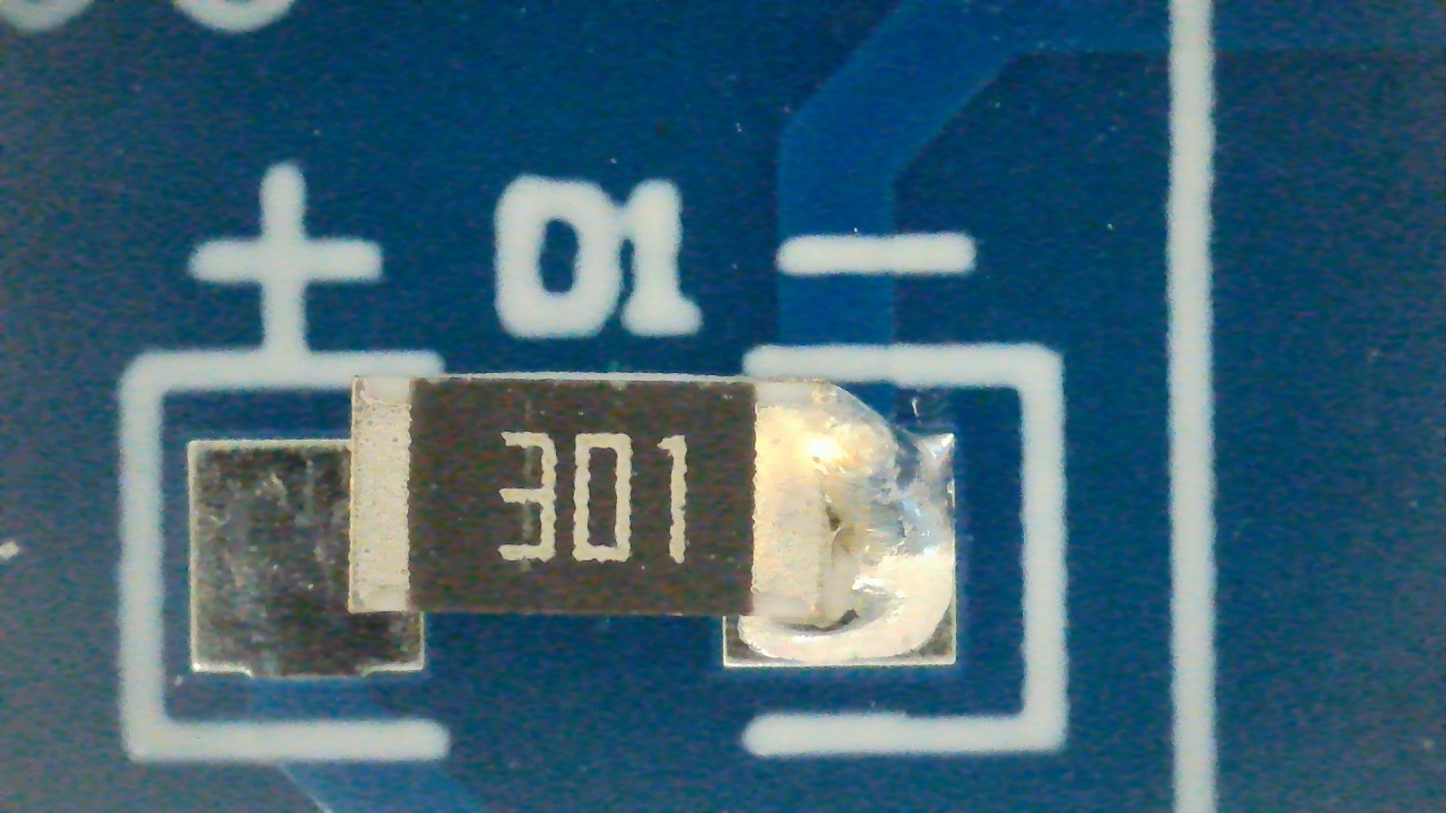NG: (188, 375, 956, 680)
